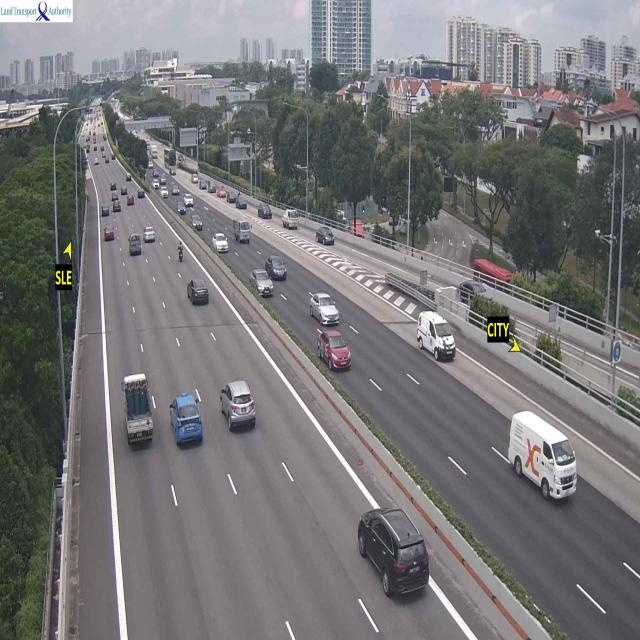-vehicles: (351, 498, 429, 604), (502, 410, 578, 514), (116, 373, 158, 447), (218, 383, 263, 437), (166, 396, 210, 451), (316, 326, 358, 382), (417, 313, 459, 367), (307, 287, 340, 326), (249, 264, 276, 307), (185, 272, 210, 303), (232, 218, 253, 246), (282, 211, 305, 234), (252, 201, 276, 222), (317, 228, 340, 248), (129, 232, 144, 257), (144, 224, 158, 246), (213, 234, 229, 253), (189, 212, 203, 233), (105, 228, 120, 246), (174, 199, 188, 218)
